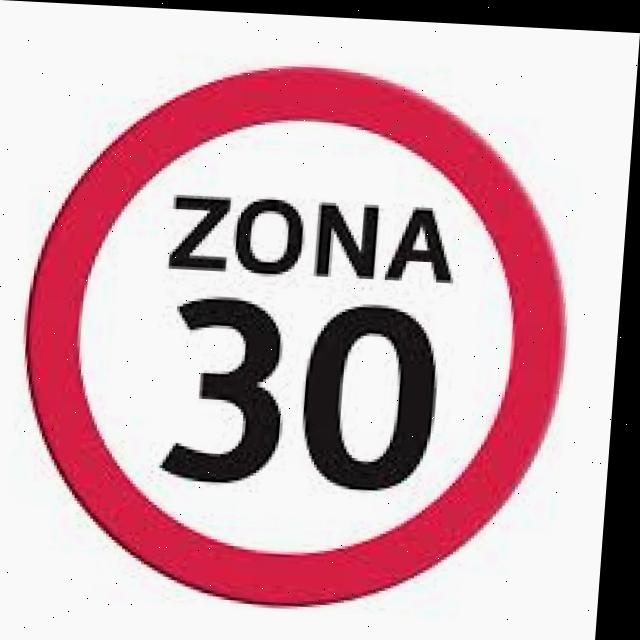Speed limit 30: (9, 45, 590, 617)
